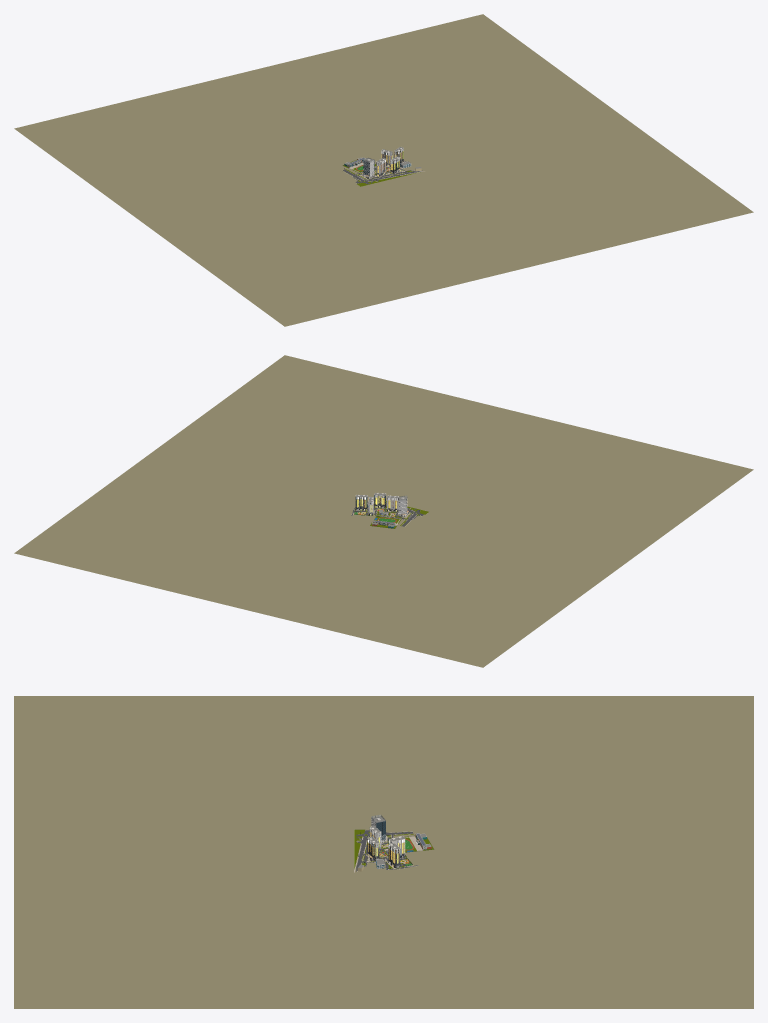
The model's file is ali_binokor.glb.
3 renders of one model, top to bottom at view 1: azimuth 30°, elevation 25°; view 2: azimuth 150°, elevation 25°; view 3: azimuth 270°, elevation 25°, orthographic. The views are drawn at different scales.
Visible parts, largest first — view 1: Ground; view 2: Ground; view 3: Ground, Site props.
Part boxes in pixels (left/top/right/bottom): Ground: left=14, top=14, right=753, bottom=326; Ground: left=14, top=355, right=753, bottom=667; Ground: left=14, top=696, right=753, bottom=1008; Site props: left=357, top=832, right=433, bottom=871.
Size of the model in its own units: 3000 by 106 by 3000.
